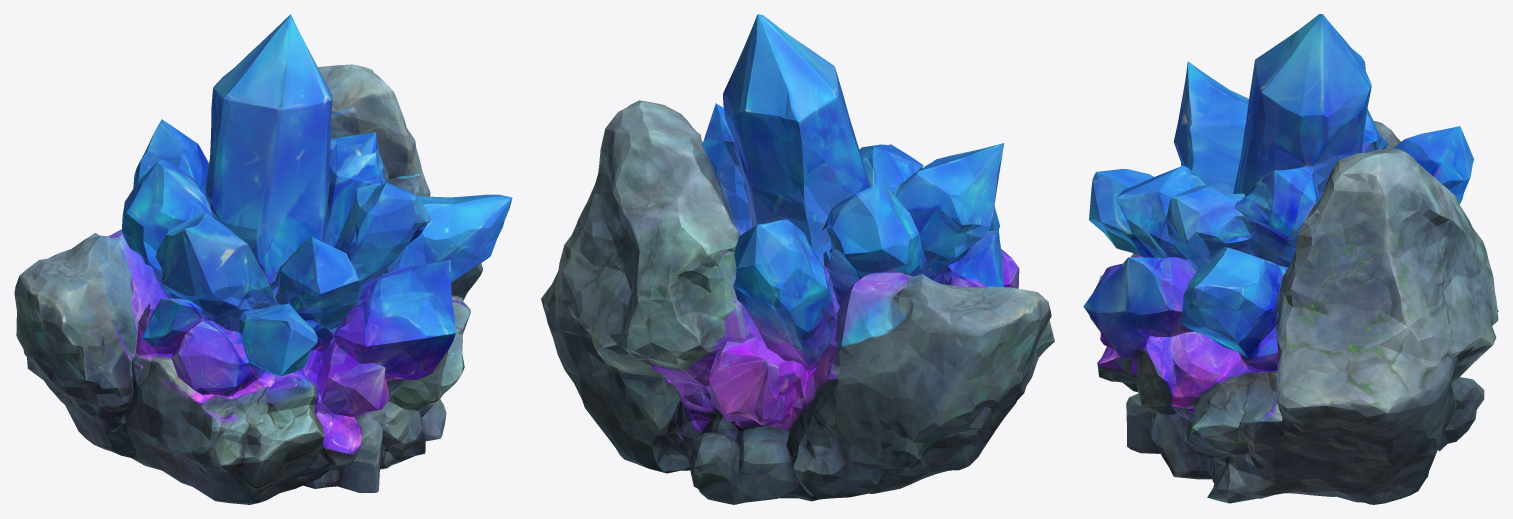
The model's file is stalagmitecrystalore_cluster_-_meshy.glb.
3 renders of one model, left to right at view 1: azimuth 30°, elevation 25°; view 2: azimuth 150°, elevation 25°; view 3: azimuth 270°, elevation 25°, orthographic. The views are drawn at different scales.
Parts seen in each view (by area): view 1: temp; view 2: temp; view 3: temp.
Part boxes in pixels (x1,y1,x2,y2): temp: (14,14,512,504); temp: (541,14,1054,504); temp: (1083,14,1498,504).
Size of the model in its own units: 2 by 1.82 by 1.56.
Materials: 1 (1 with a texture image).
